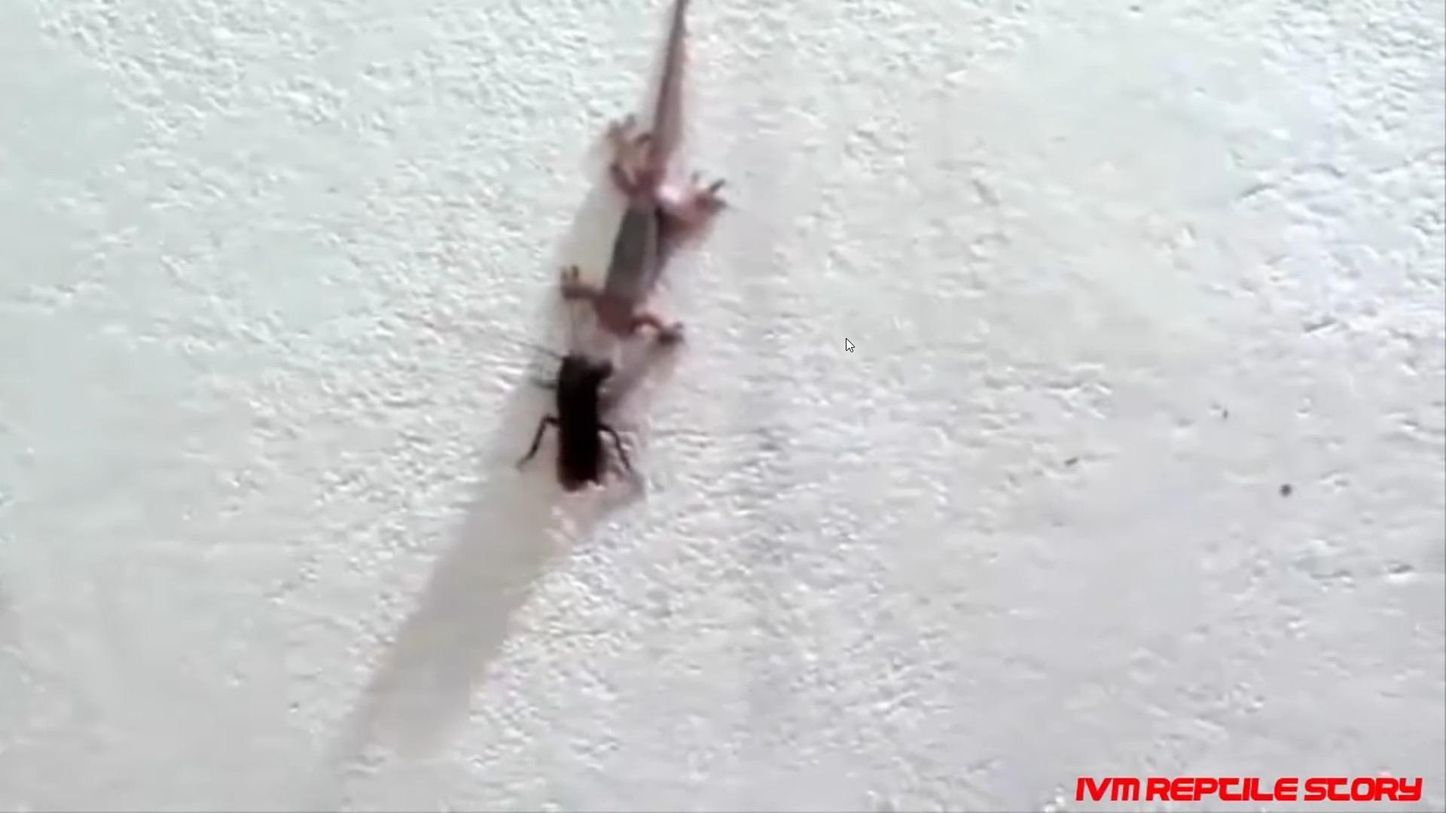cockroach: (541, 352, 641, 504)
lizard: (568, 36, 728, 375)
